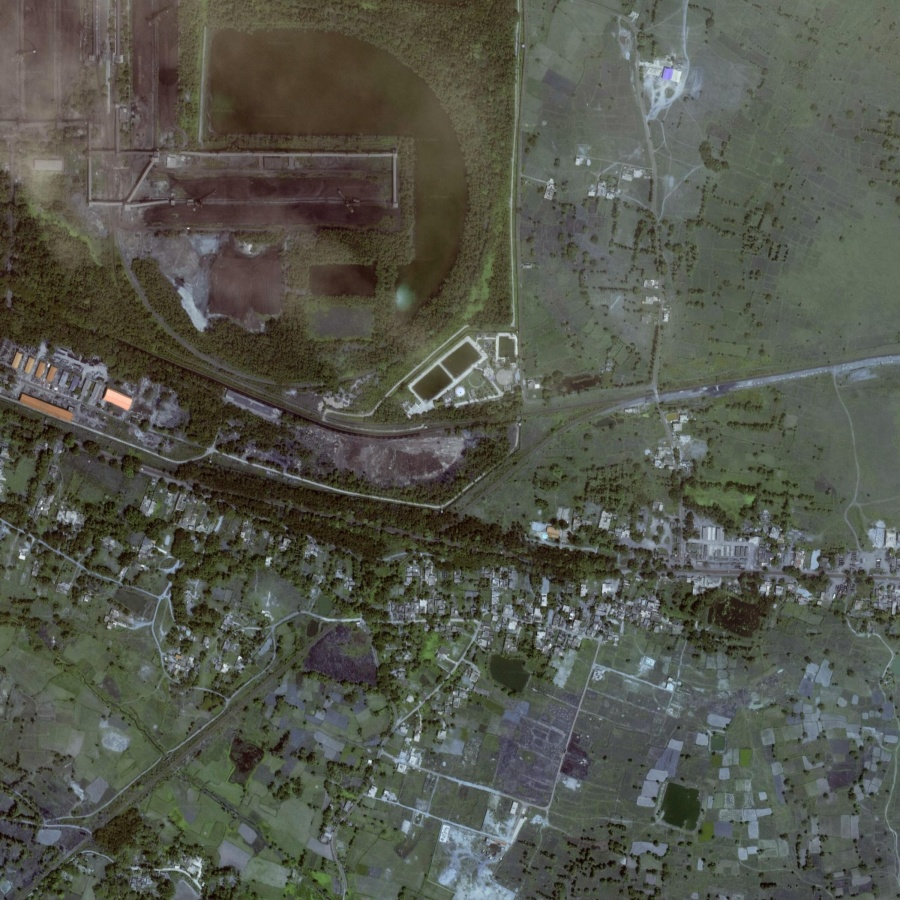PowerPlant: (124, 151, 408, 337)
